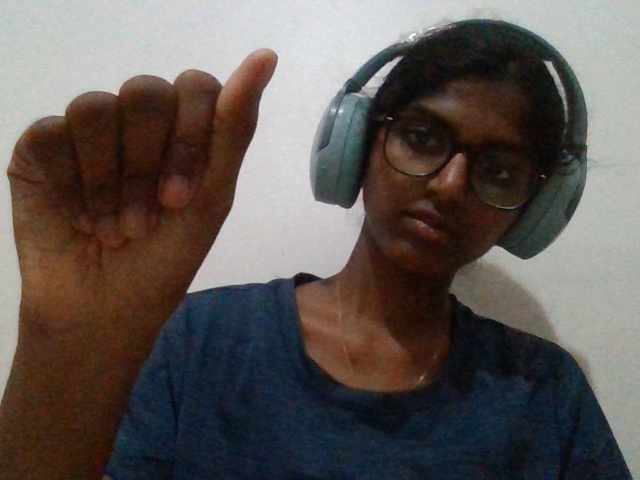A: (2, 40, 290, 402)
